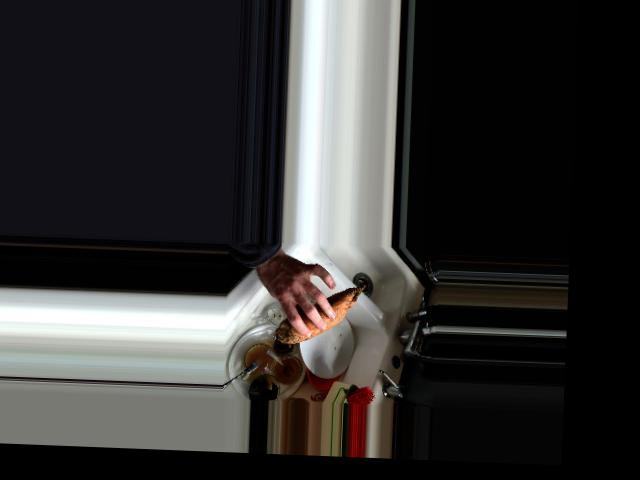sweet_potato: (276, 280, 366, 347)
